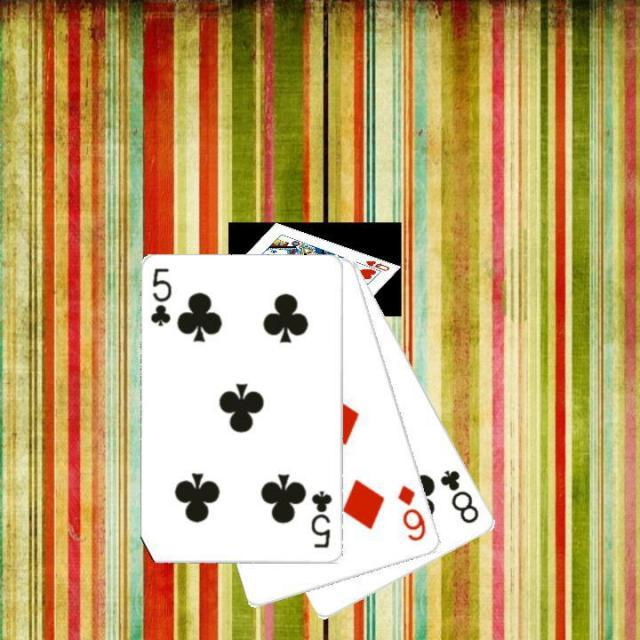5C: (146, 265, 174, 329), (308, 487, 334, 550)
6D: (394, 481, 428, 544)
8C: (436, 466, 482, 526)
